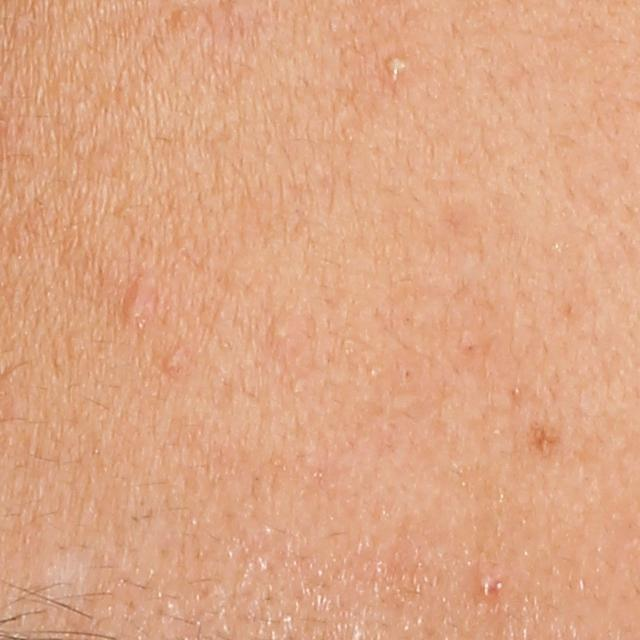comedo: (264, 315, 293, 339), (476, 566, 500, 592)
